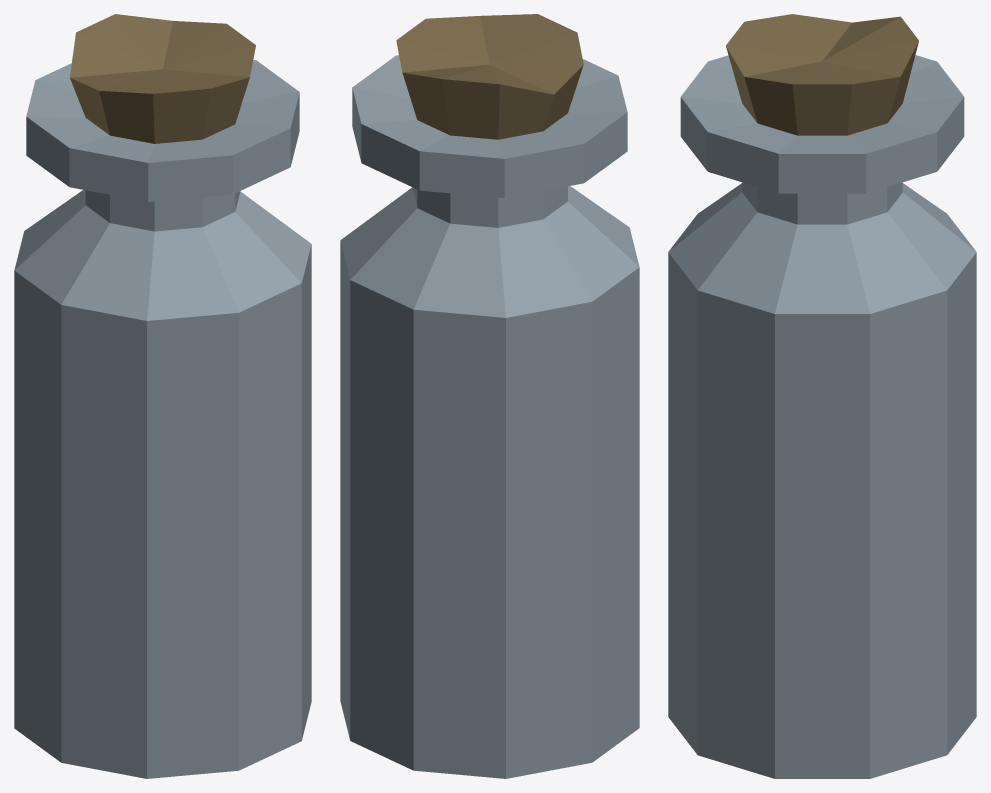
Rendered from Unicorn_Blood.fbx.
3 views of the same model, side by side, from view 1: azimuth 30°, elevation 25°; view 2: azimuth 150°, elevation 25°; view 3: azimuth 270°, elevation 25° (orthographic).
Visible parts, largest first — view 1: pCylinder1; view 2: pCylinder1; view 3: pCylinder1.
Part boxes in pixels (x1,y1,x2,y2): pCylinder1: (14, 14, 311, 778); pCylinder1: (340, 14, 639, 778); pCylinder1: (668, 14, 976, 778).
Bounding box in the file's own units: 7.66 × 19.49 × 8.05.
